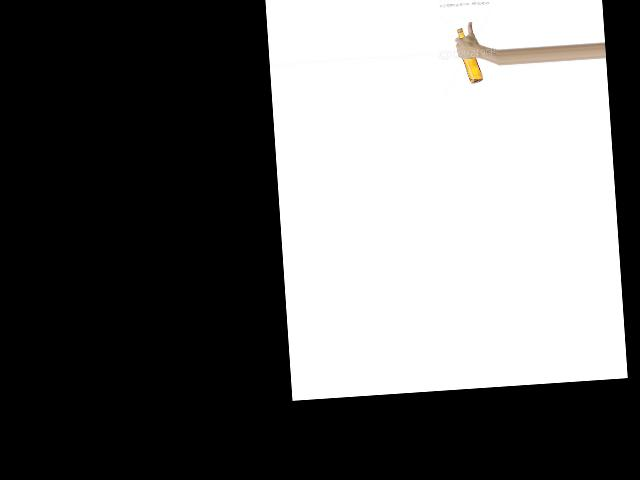beer: (457, 27, 483, 84)
